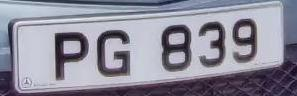3: (193, 18, 231, 71)
8: (155, 20, 195, 77)
9: (226, 12, 264, 67)
G: (93, 26, 137, 81)
P: (48, 24, 95, 85)
